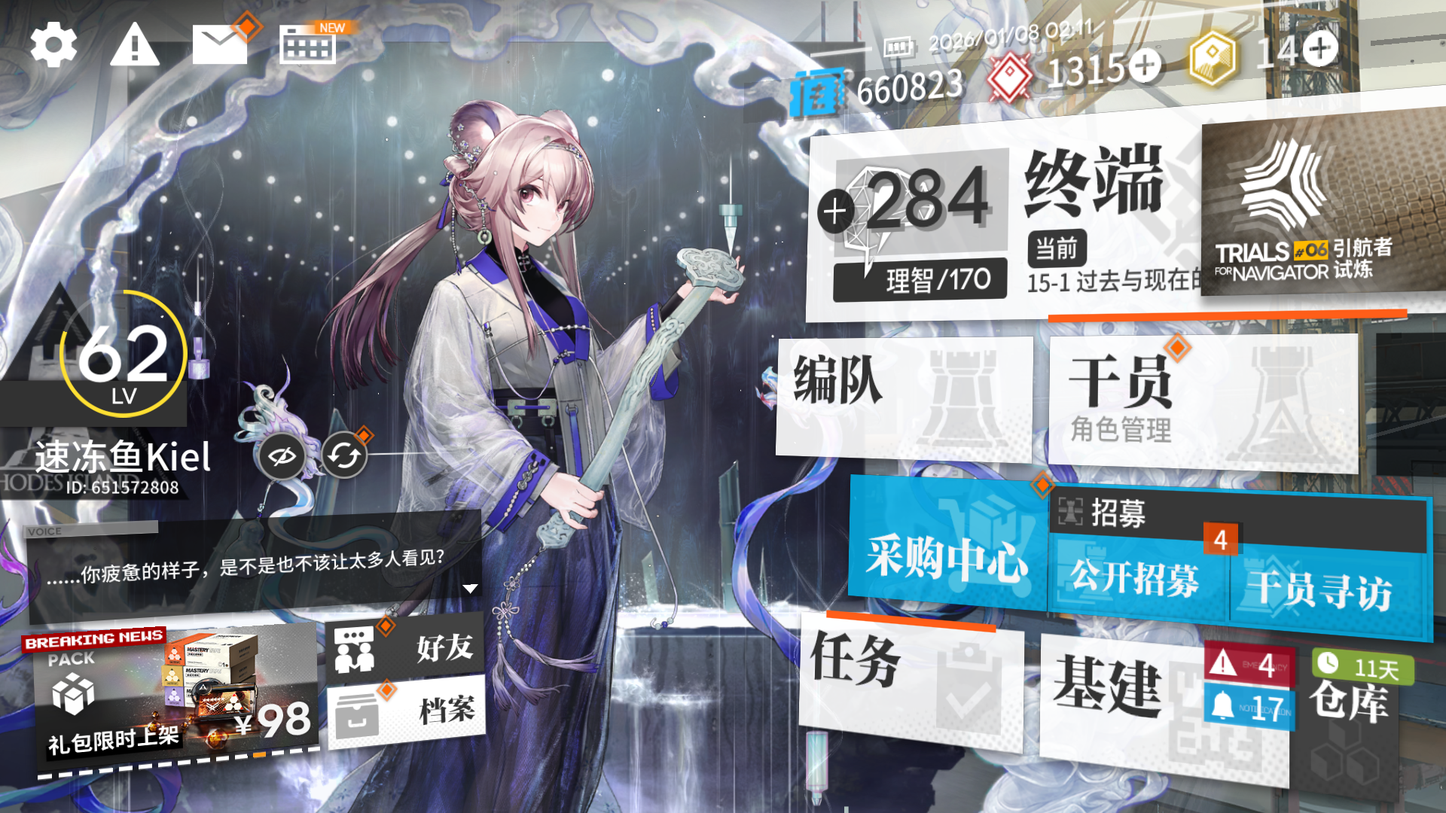home_button: (1014, 120, 1186, 232)
infrastructure_button: (1038, 635, 1299, 778)
